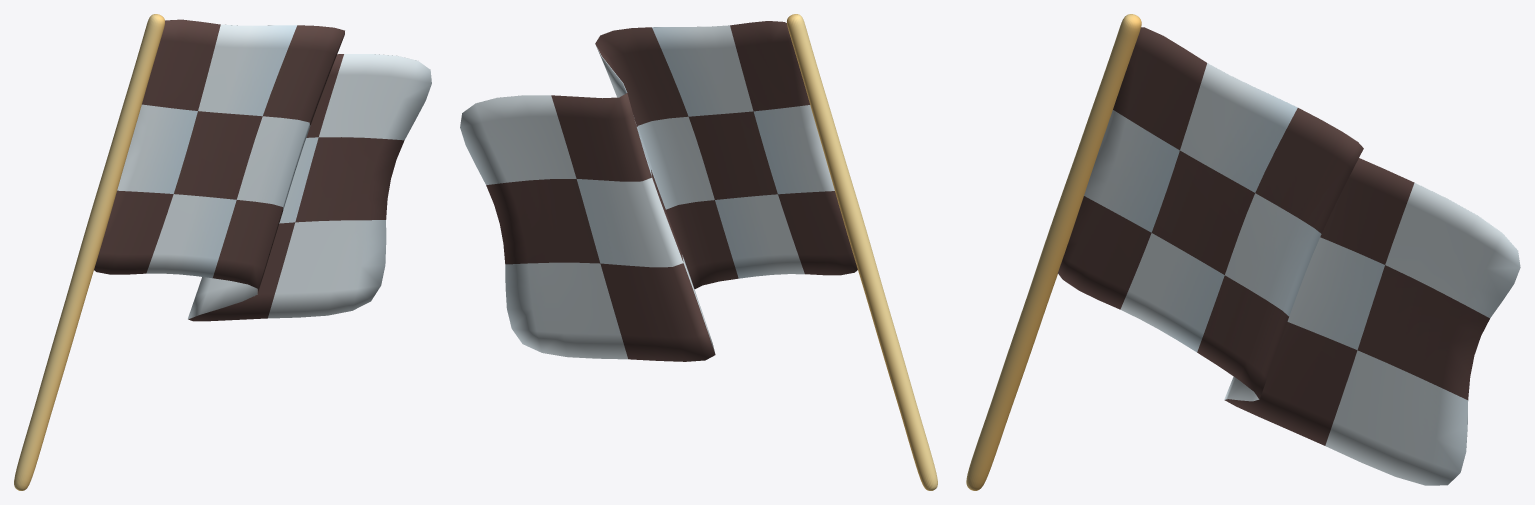
Rendered from FINISH_MARK.fbx.
3 views of the same model, side by side, from view 1: azimuth 30°, elevation 25°; view 2: azimuth 150°, elevation 25°; view 3: azimuth 330°, elevation 25° (orthographic). The views are drawn at different scales.
Parts seen in each view (by area): view 1: flag; view 2: flag; view 3: flag.
Boxes of the visible parts, <box> form: flag: <box>14,14,431,490</box>; flag: <box>460,14,937,490</box>; flag: <box>966,14,1520,490</box>.
Bounding box in the file's own units: 996 × 942 × 138.
1 material, 1 textured.
